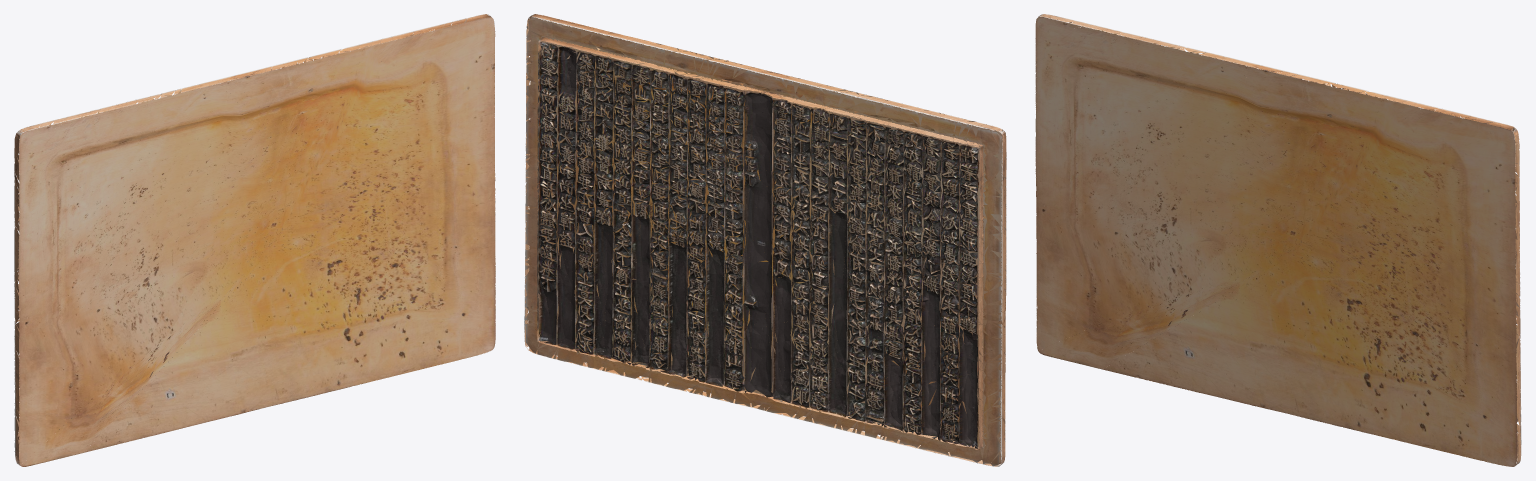
File: jikji_plate.glb
The picture shows the model from 3 angles, left to right: view 1: azimuth 30°, elevation 25°; view 2: azimuth 150°, elevation 25°; view 3: azimuth 330°, elevation 25°; orthographic projection.
Parts seen in each view (by area): view 1: Page_1_Decimate; view 2: Page_1_Decimate, Page_1_Decimate_Page_01_0.001; view 3: Page_1_Decimate, Page_1_Decimate_Page_01_0.001.
Part boxes in pixels (x1=…): Page_1_Decimate: x1=14, y1=14, x2=495, y2=466; Page_1_Decimate: x1=524, y1=14, x2=1006, y2=466; Page_1_Decimate_Page_01_0.001: x1=525, y1=17, x2=1001, y2=466; Page_1_Decimate: x1=1035, y1=14, x2=1521, y2=466; Page_1_Decimate_Page_01_0.001: x1=1042, y1=17, x2=1520, y2=458.
Size of the model in its own units: 8.8 by 5.95 by 0.3276.
Materials: 10 (10 with a texture image).
